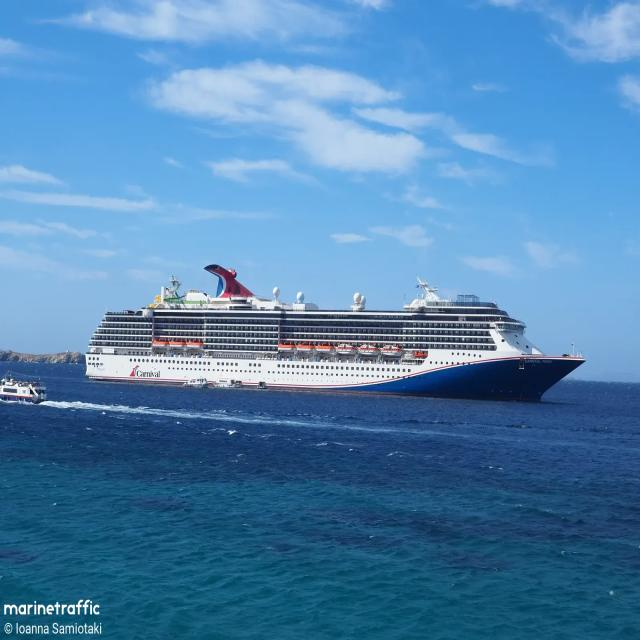Cruise: (86, 265, 585, 401)
Passenger: (0, 372, 46, 404)
